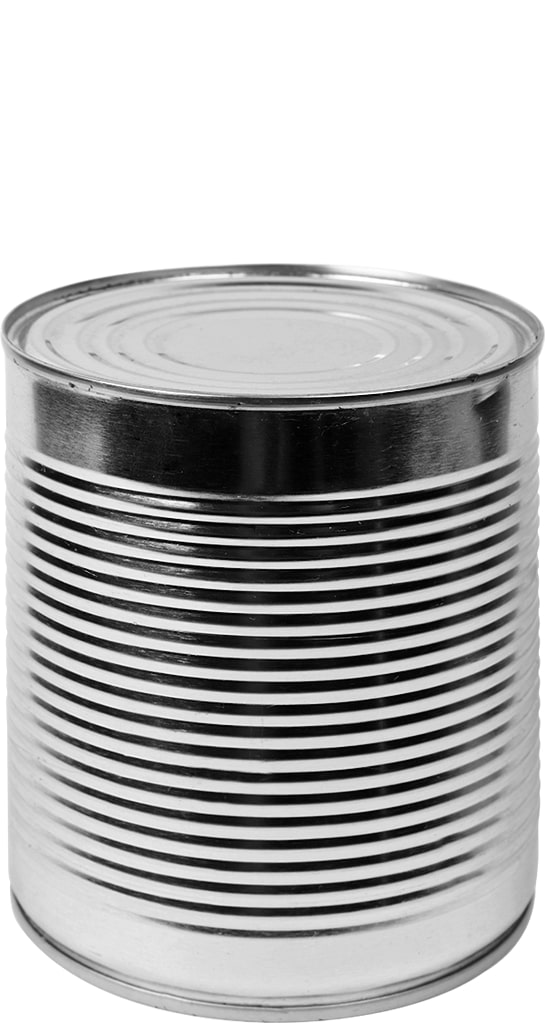metal: (1, 262, 545, 1024)
